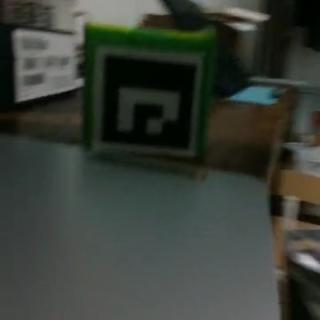armor: (92, 45, 202, 159)
robot: (84, 19, 214, 164)
